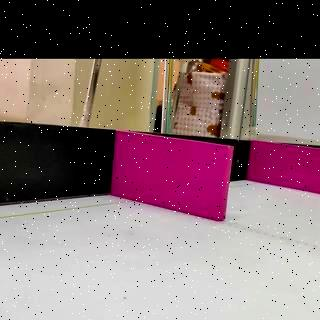xparking: (116, 147, 226, 216), (252, 149, 320, 189)
